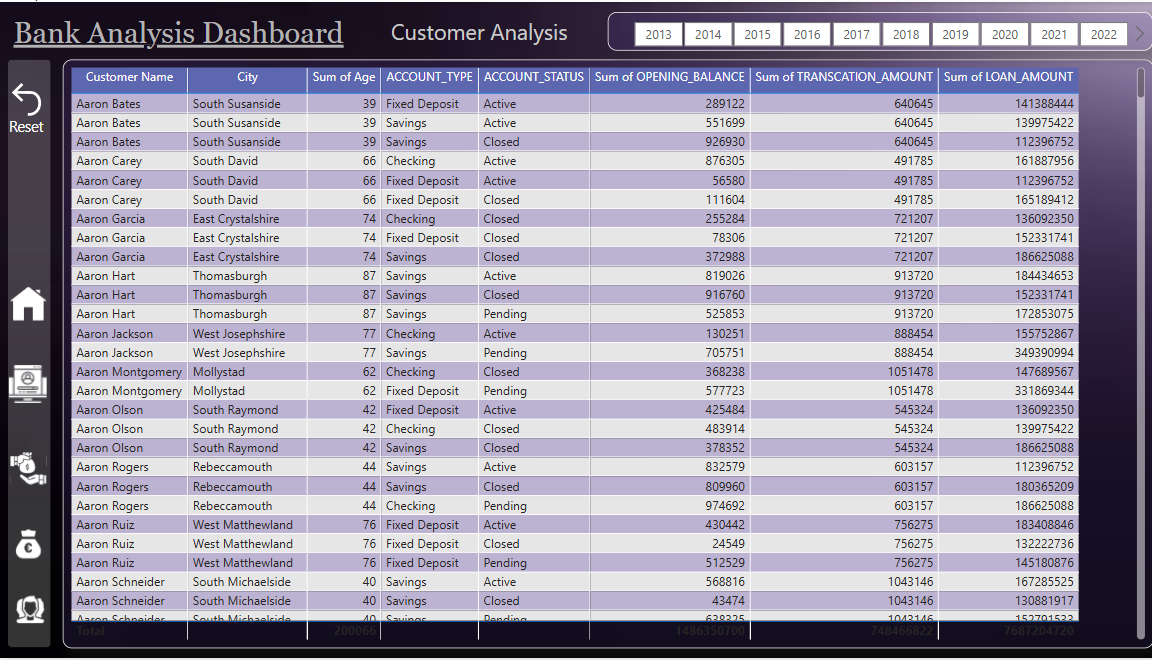

The page's visual inventory and layout, read from the dashboard file:
{"tool":"powerbi","page":{"name":"Customer Page","canvas":[1280,720],"ordinal":5},"visuals":[{"type":"shape","box":[10.1,63.4,47.6,645.9],"z":0},{"type":"textbox","box":[10.5,10.5,415.3,52.7],"z":1000},{"type":"tableEx","fields":{"Values":["Bank_Customer_Data.Full Name","Bank_Customer_Data.City","Sum(Bank_Customer_Data.Age)","Bank_Account_Data.ACCOUNT_TYPE","Bank_Account_Data.ACCOUNT_STATUS","Sum(Bank_Account_Data.OPENING_BALANCE)","Sum(Bank_Transacation_Data.TRANSCATION_AMOUNT)","Sum(Bank_Loan_Data.LOAN_AMOUNT)"]},"box":[69.9,63.3,1197.2,646.1],"z":2000},{"type":"actionButton","box":[8.4,305.2,48.3,54.3],"z":3000},{"type":"actionButton","box":[7.2,393.3,49.5,50.7],"z":4000},{"type":"actionButton","box":[8.4,481.4,48.3,61.5],"z":5000},{"type":"actionButton","box":[8.4,564.6,48.3,62.7],"z":6000},{"type":"actionButton","box":[12.1,643,44.6,47.1],"z":7000},{"type":"slicer","fields":{"Values":["Bank_Account_Data.Year"]},"box":[668.5,11.4,598.7,42.8],"z":8000},{"type":"actionButton","box":[7,62.6,47.3,87.7],"z":9000},{"type":"textbox","box":[424.8,11.4,243.7,51.3],"z":10000}]}

Visuals, with their boxes on the page's 1280x720 design canvas (x1, y1, x2, y2). These are canvas units, not pixel positions in the 1152x660 screenshot, which may show the page scaled, cropped or inside an application window:
shape: <box>10,63,58,709</box>
textbox: <box>10,10,426,63</box>
tableEx - Bank_Customer_Data.Full Name x Bank_Customer_Data.City: <box>70,63,1267,709</box>
actionButton: <box>8,305,57,360</box>
actionButton: <box>7,393,57,444</box>
actionButton: <box>8,481,57,543</box>
actionButton: <box>8,565,57,627</box>
actionButton: <box>12,643,57,690</box>
slicer - Bank_Account_Data.Year: <box>668,11,1267,54</box>
actionButton: <box>7,63,54,150</box>
textbox: <box>425,11,668,63</box>
